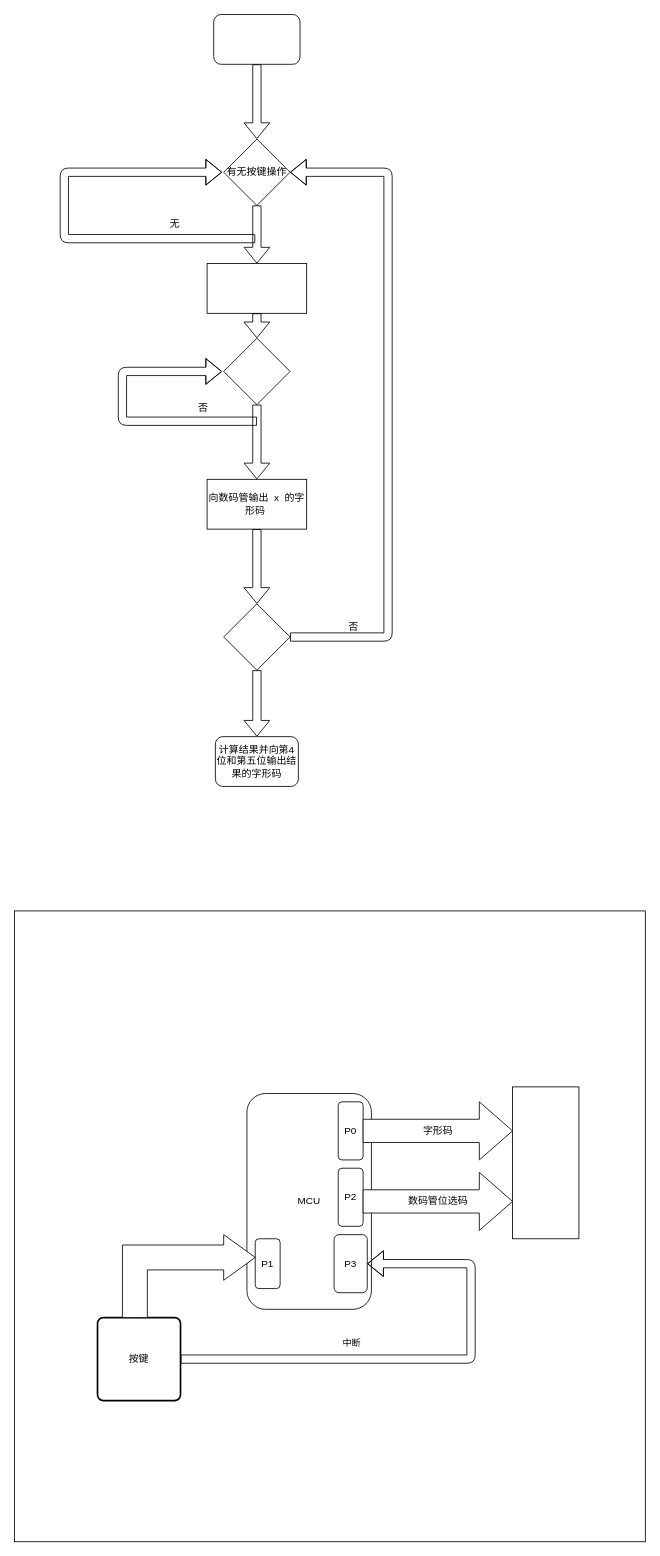
This 660x1556 diagram has some shape labels left out. Each missing label, with the centre of its shape:
MAIN 数码管选中第一位: the point at 256,39
数码管: the point at 545,1162
数码管选中的位数右移: the point at 256,288
是否三位已经输入完: the point at 256,636
是否是数字 x: the point at 256,371
